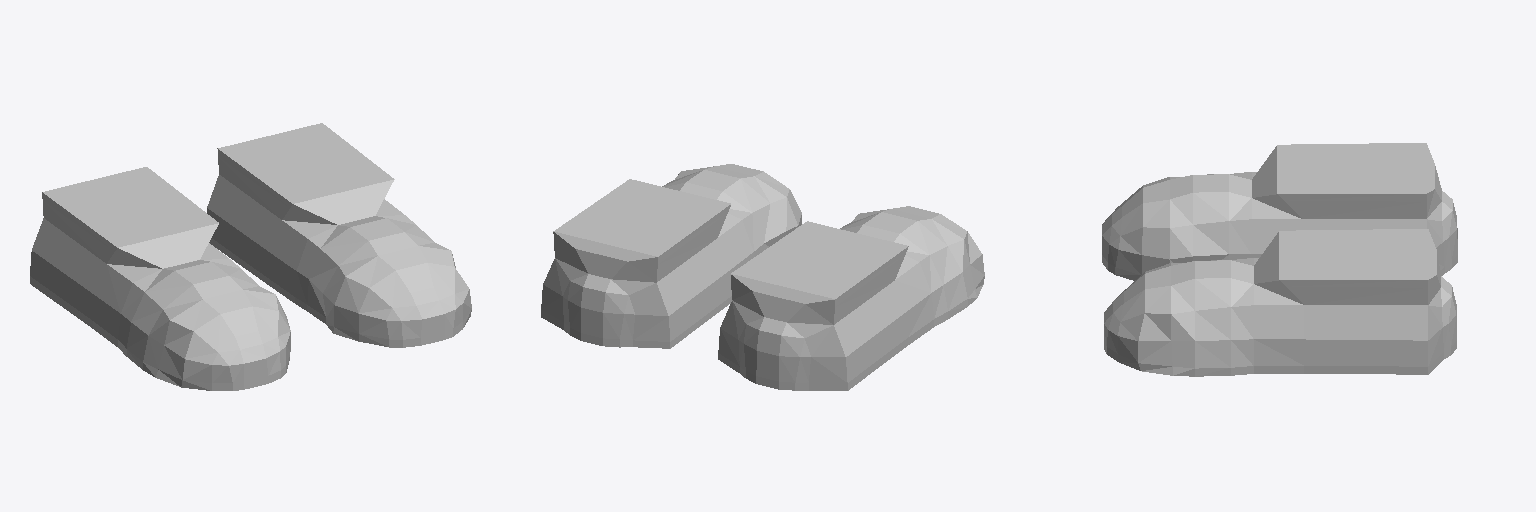
The model's file is minion4.obj.
3 views of the same model, side by side, from view 1: azimuth 30°, elevation 25°; view 2: azimuth 150°, elevation 25°; view 3: azimuth 270°, elevation 25° (orthographic).
Visible parts, largest first — view 1: polySurface10; view 2: polySurface10; view 3: polySurface10.
Part boxes in pixels (left/top/right/bottom): polySurface10: left=30, top=123, right=471, bottom=390; polySurface10: left=541, top=164, right=984, bottom=390; polySurface10: left=1102, top=143, right=1457, bottom=376.
Bounding box in the file's own units: 0.1714 × 0.0467 × 0.1686.